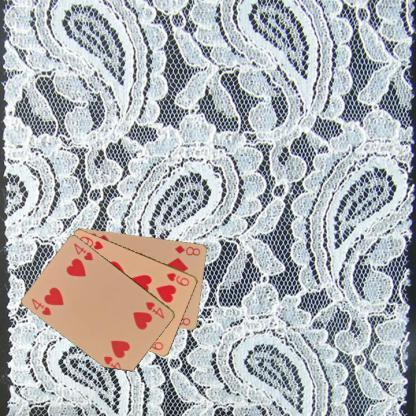4h: (143, 298, 166, 320), (29, 296, 52, 318)
8d: (172, 242, 202, 257)
9h: (164, 270, 191, 288)
